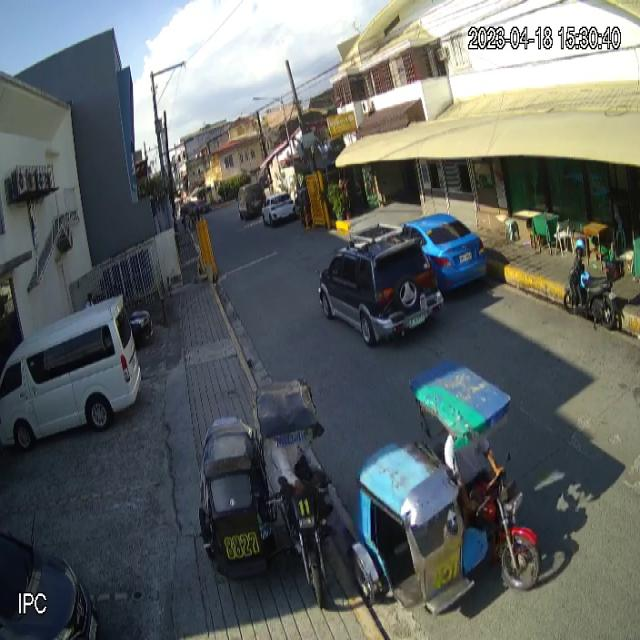Car: (318, 221, 444, 349)
Motorcycle: (564, 251, 624, 333)
Tricycle: (349, 358, 542, 618), (197, 376, 330, 613)
Van: (0, 292, 143, 450)
